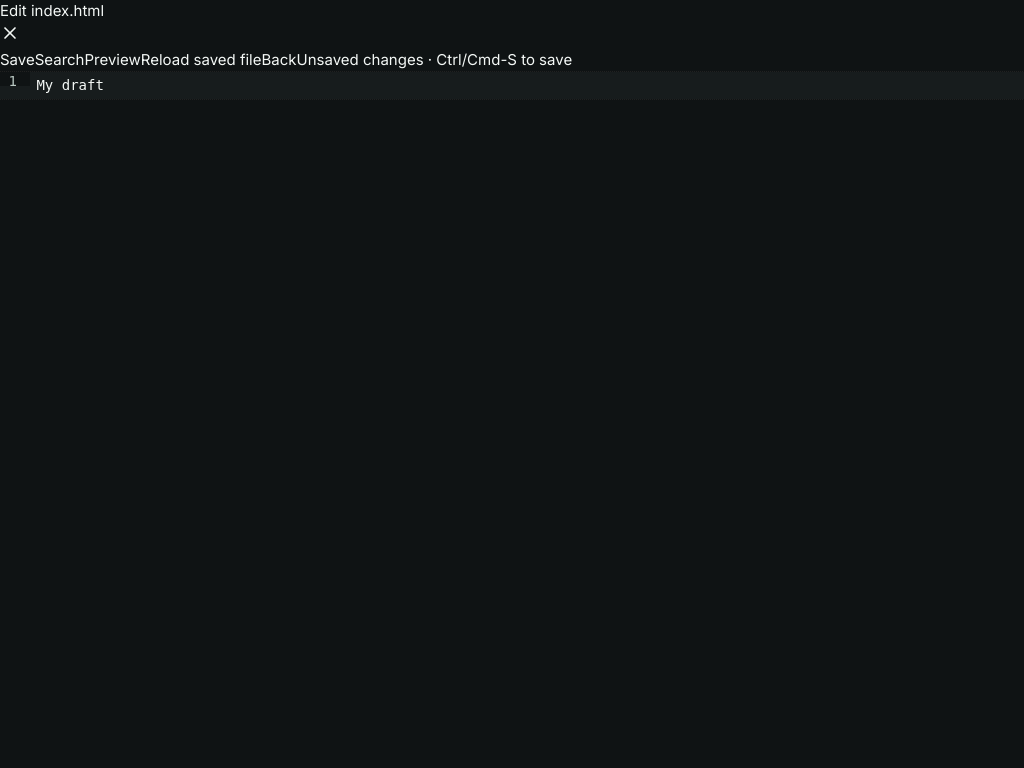
Test: shows a stale-version message without losing the draft
The image size is (1024, 768).
Click the button "Save" at coordinates (17, 60), box [0,49,35,72]
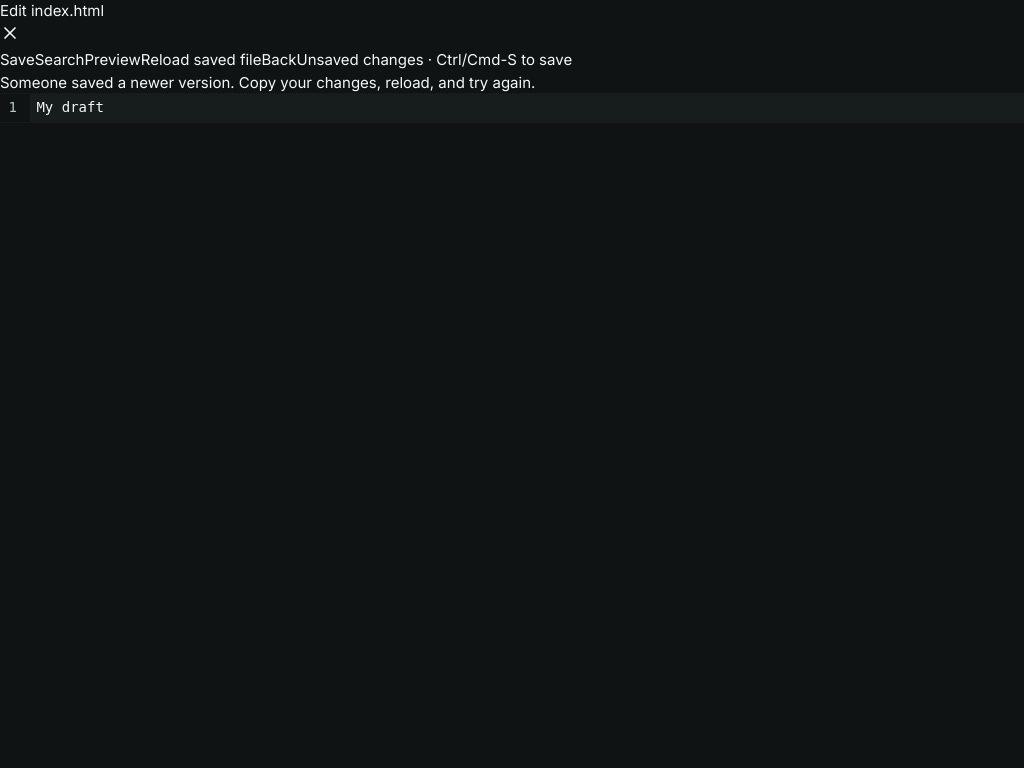
Expected: the field named "File contents" reads "My draft", [36,99,104,115]
Expected: the message reads "Someone saved a newer version. Copy your changes, reload, and try again.", [0,72,535,92]
